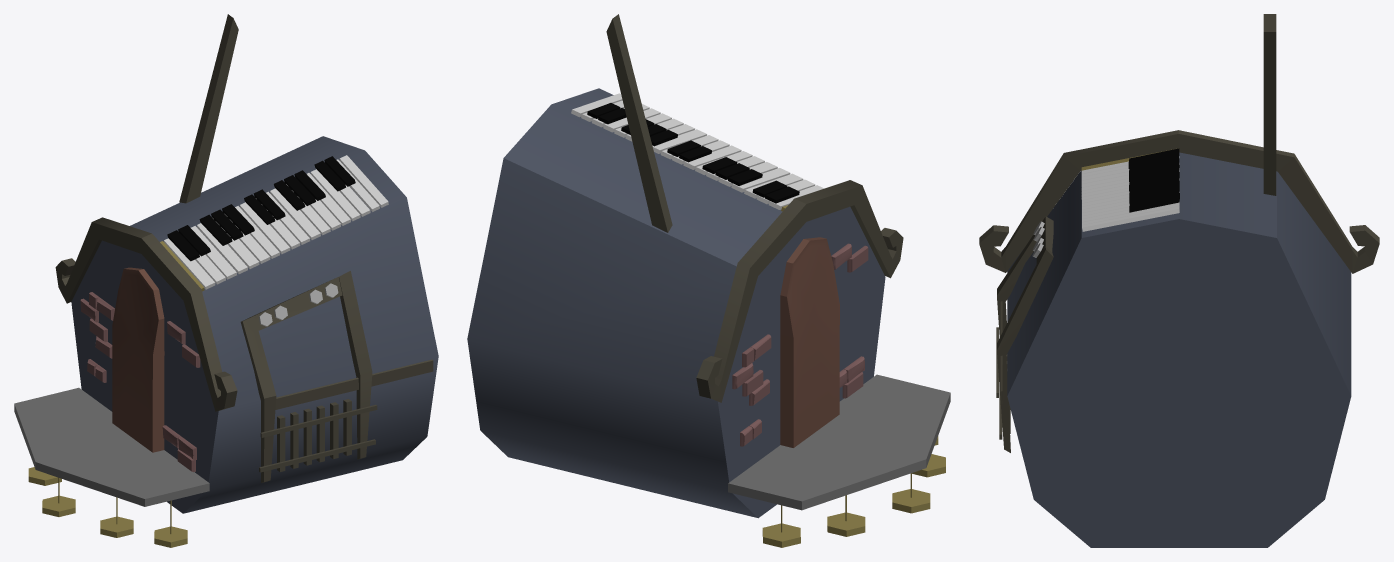
The model's file is Music_Store_Part_02.fbx.
The picture shows the model from 3 angles, left to right: view 1: azimuth 30°, elevation 25°; view 2: azimuth 150°, elevation 25°; view 3: azimuth 270°, elevation 25°; orthographic projection. The views are drawn at different scales.
Parts seen in each view (by area): view 1: music_store_2; view 2: music_store_2; view 3: music_store_2.
Boxes of the visible parts, x1=… form: music_store_2: x1=14, y1=14, x2=438, y2=547; music_store_2: x1=467, y1=14, x2=950, y2=547; music_store_2: x1=979, y1=14, x2=1379, y2=547.
Bounding box in the file's own units: 1778 × 2121 × 1606.
